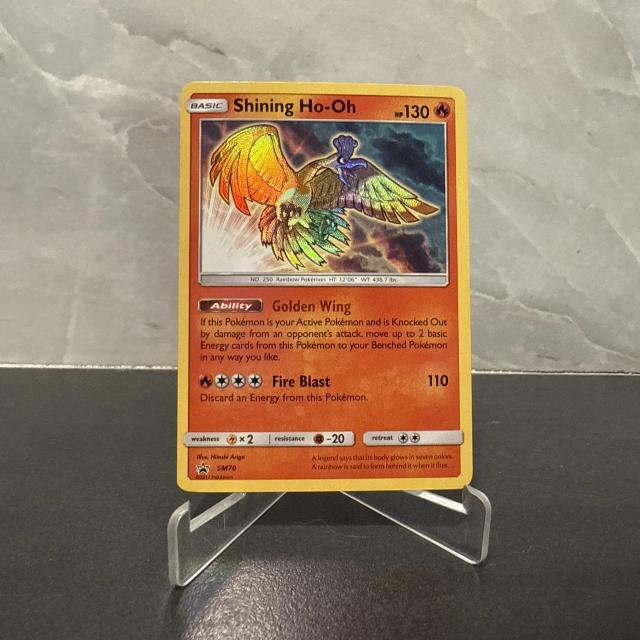Card: (174, 79, 476, 496)
Name: (230, 94, 360, 118)
